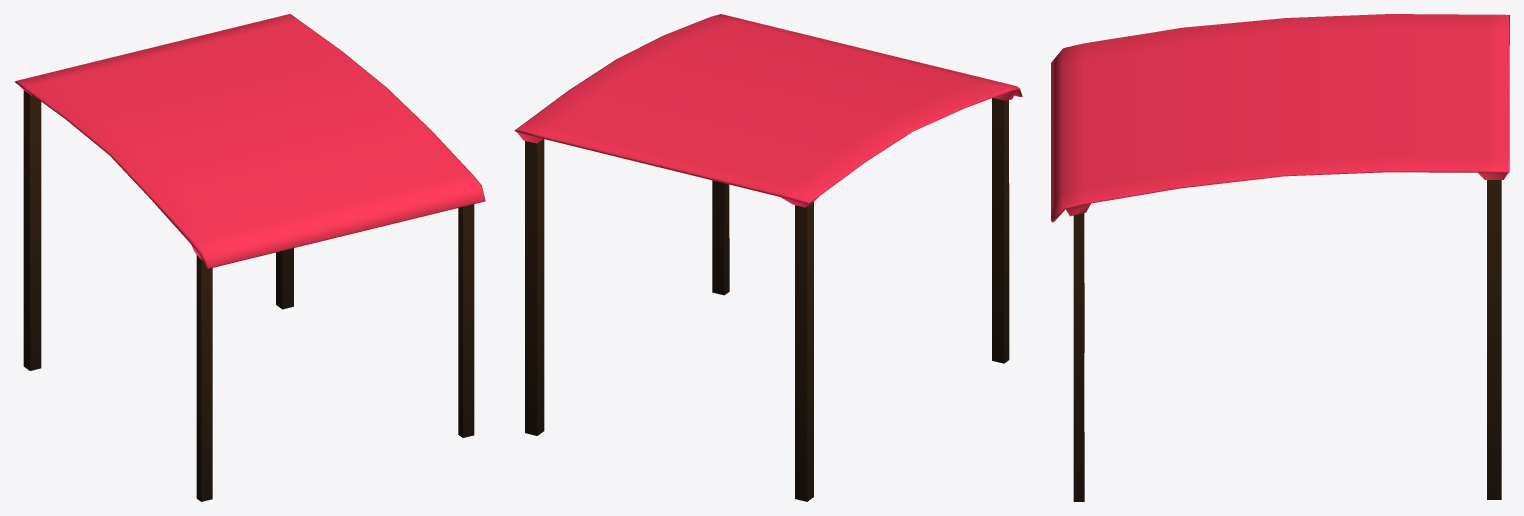
File: StandPasar2.fbx
The picture shows the model from 3 angles, left to right: view 1: azimuth 30°, elevation 25°; view 2: azimuth 150°, elevation 25°; view 3: azimuth 270°, elevation 25°; orthographic projection. The views are drawn at different scales.
Visible parts, largest first — view 1: Plane.062; view 2: Plane.062; view 3: Plane.062.
Boxes of the visible parts, x1,y1,x2,y2 form: Plane.062: (15, 14, 485, 501); Plane.062: (514, 14, 1022, 501); Plane.062: (1051, 14, 1509, 501).
Size of the model in its own units: 249 by 240 by 300.
